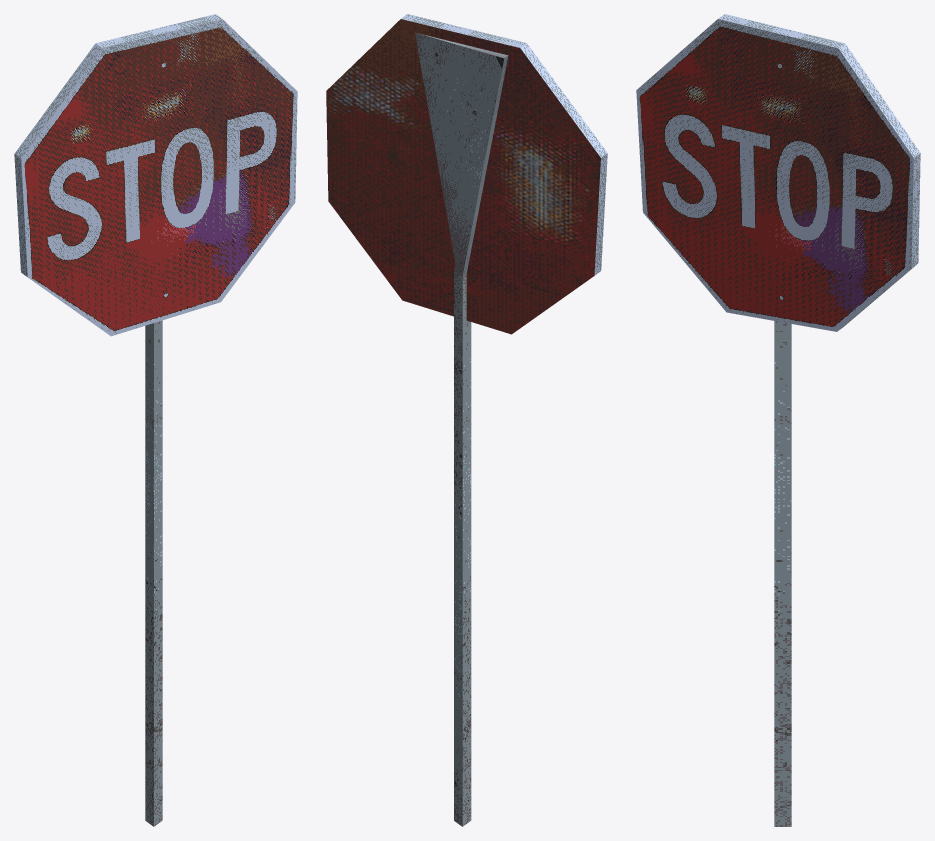
Rendered from psx_-_stop_sign.glb.
3 renders of one model, left to right at view 1: azimuth 30°, elevation 25°; view 2: azimuth 150°, elevation 25°; view 3: azimuth 330°, elevation 25°, orthographic.
Visible parts, largest first — view 1: pCube19; view 2: pCube19; view 3: pCube19.
Boxes of the visible parts, x1,y1,x2,y2 form: pCube19: (14,14,297,826); pCube19: (326,14,607,826); pCube19: (636,14,920,826).
Size of the model in its own units: 0.048 by 0.1316 by 0.00332.
Materials: 3 (3 with a texture image).
